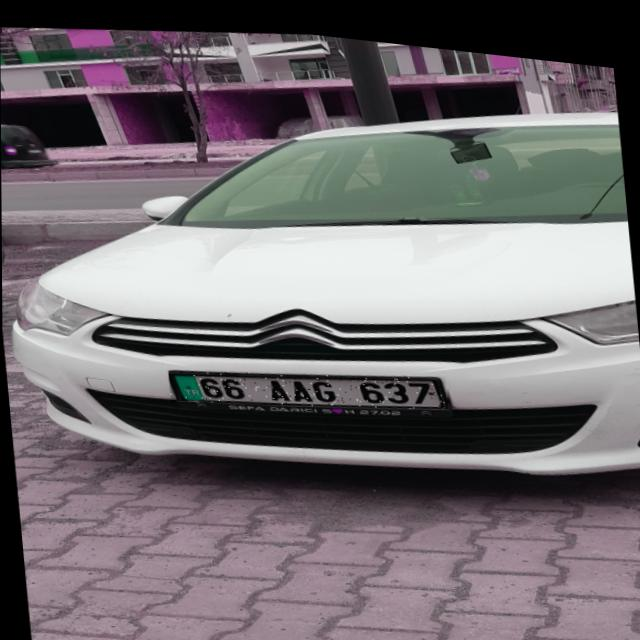license_plate: (167, 342, 450, 423)
